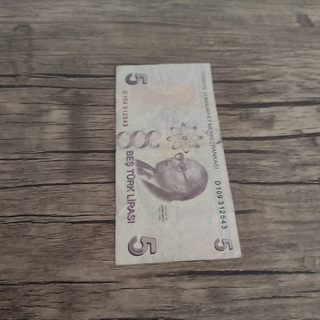5TLBack: (114, 61, 243, 267)
